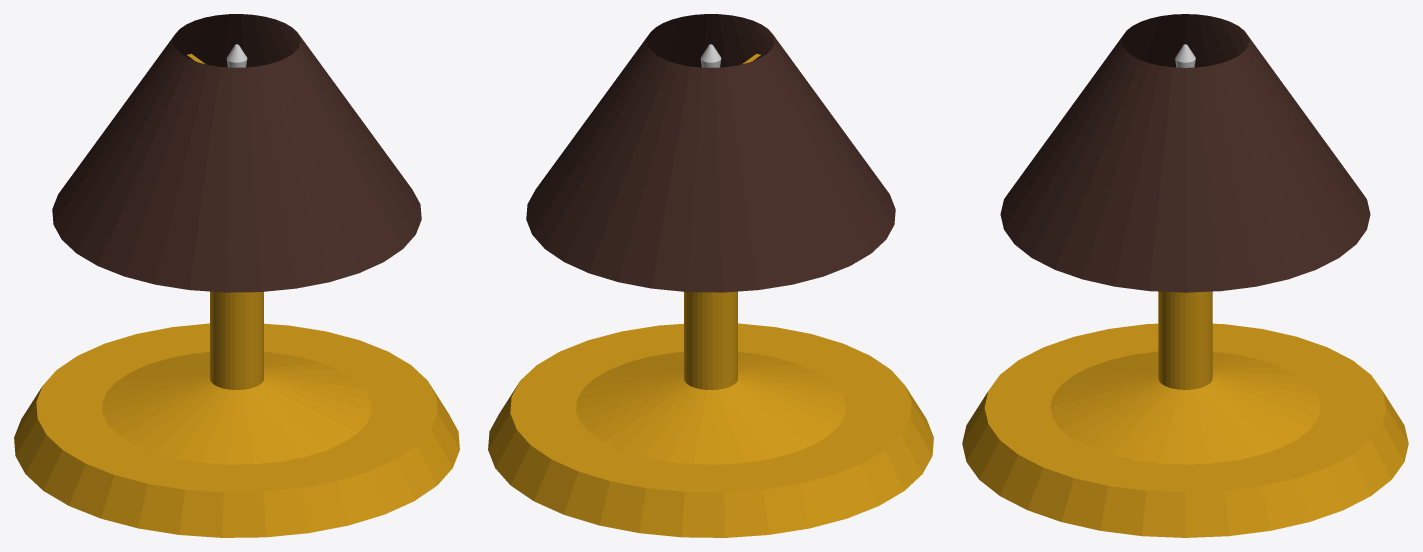
File: LamparaMesa.fbx
3 renders of one model, left to right at view 1: azimuth 30°, elevation 25°; view 2: azimuth 150°, elevation 25°; view 3: azimuth 270°, elevation 25°, orthographic.
Parts seen in each view (by area): view 1: Cilindro; view 2: Cilindro; view 3: Cilindro.
Boxes of the visible parts, x1,y1,x2,y2 form: Cilindro: (14,14,459,537); Cilindro: (488,14,933,537); Cilindro: (962,14,1408,537).
Size of the model in its own units: 364 by 362 by 364.
